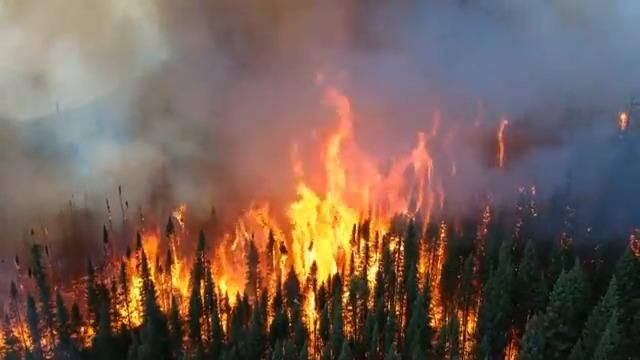fire: (127, 103, 464, 338), (0, 281, 115, 353), (501, 335, 527, 360)
smoke: (9, 0, 640, 192)
